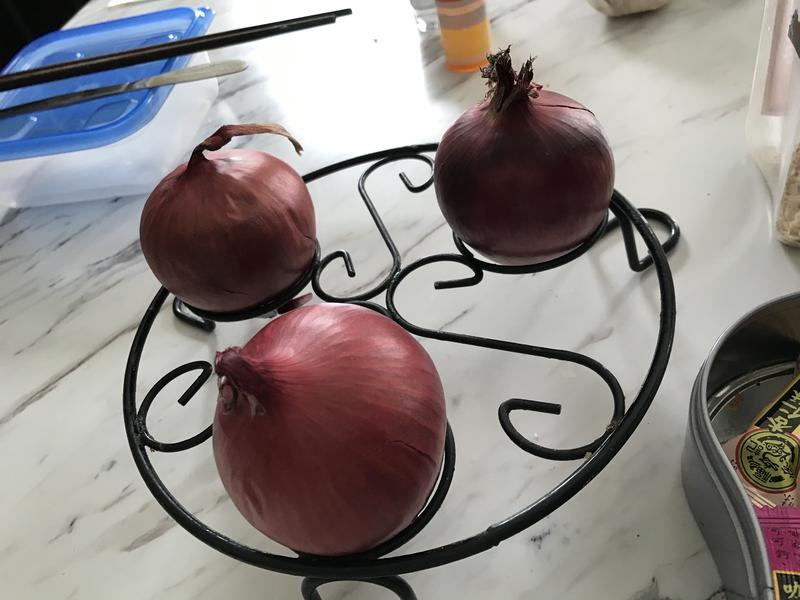purple_onion: (197, 299, 456, 573), (423, 37, 622, 267), (132, 112, 326, 322)
